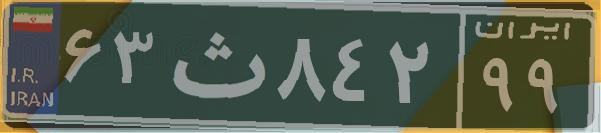2: (385, 28, 445, 110)
3: (110, 28, 158, 105)
4: (330, 28, 385, 110)
6: (57, 26, 110, 107)
8: (273, 28, 330, 110)
9: (475, 38, 525, 113), (525, 38, 570, 115)
ث: (158, 15, 273, 115)
